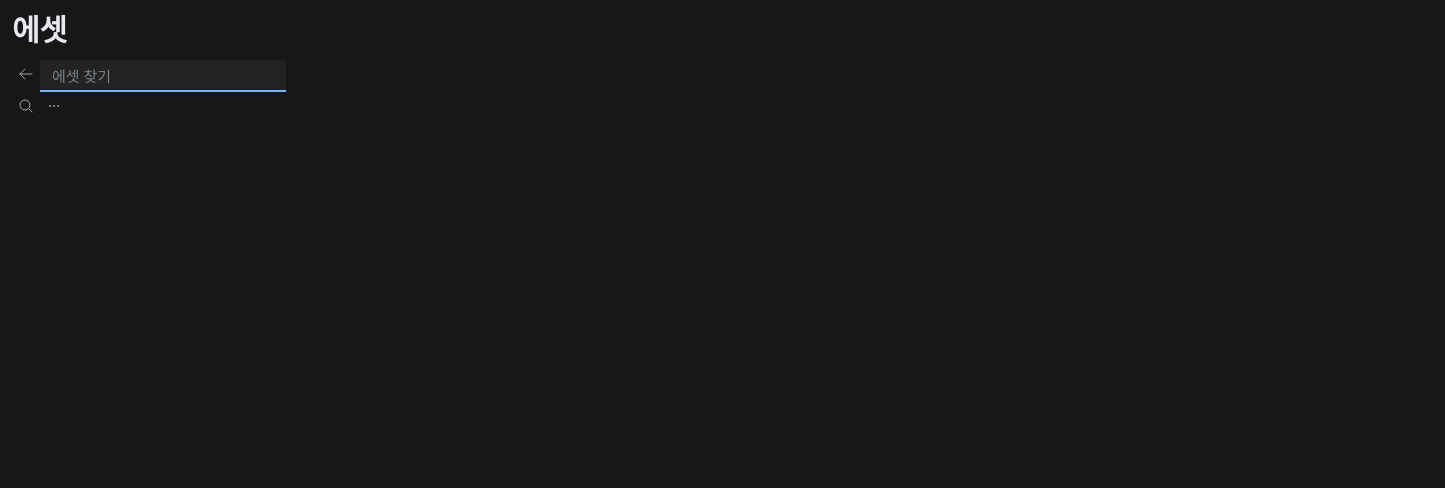
Test: shows five per group and expands only the selected group with more
Step 1. Type "서리" into the search field → {"x": 163, "y": 76}, box [40, 60, 286, 92]
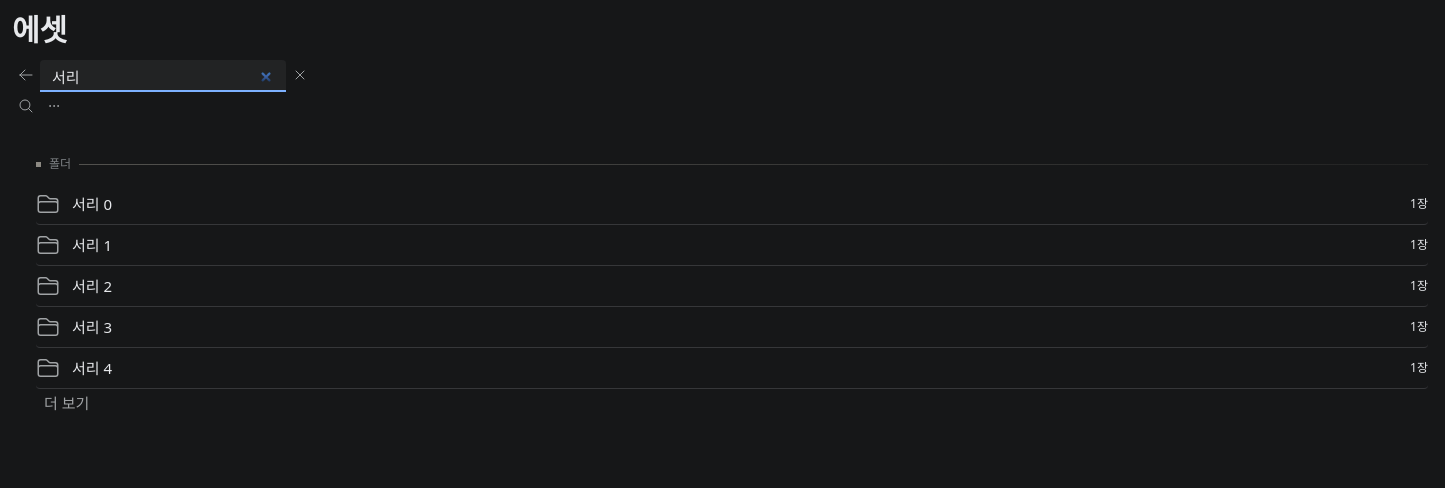
Expected: the number of buttons with class "asset-search-result" is 5, [36, 184, 1428, 225]; [36, 225, 1428, 266]; [36, 266, 1428, 307]; [36, 307, 1428, 348]; [36, 348, 1428, 389]
Step 2. Click the button with aria-label "폴더 더 보기" → {"x": 67, "y": 403}, box [36, 389, 97, 417]
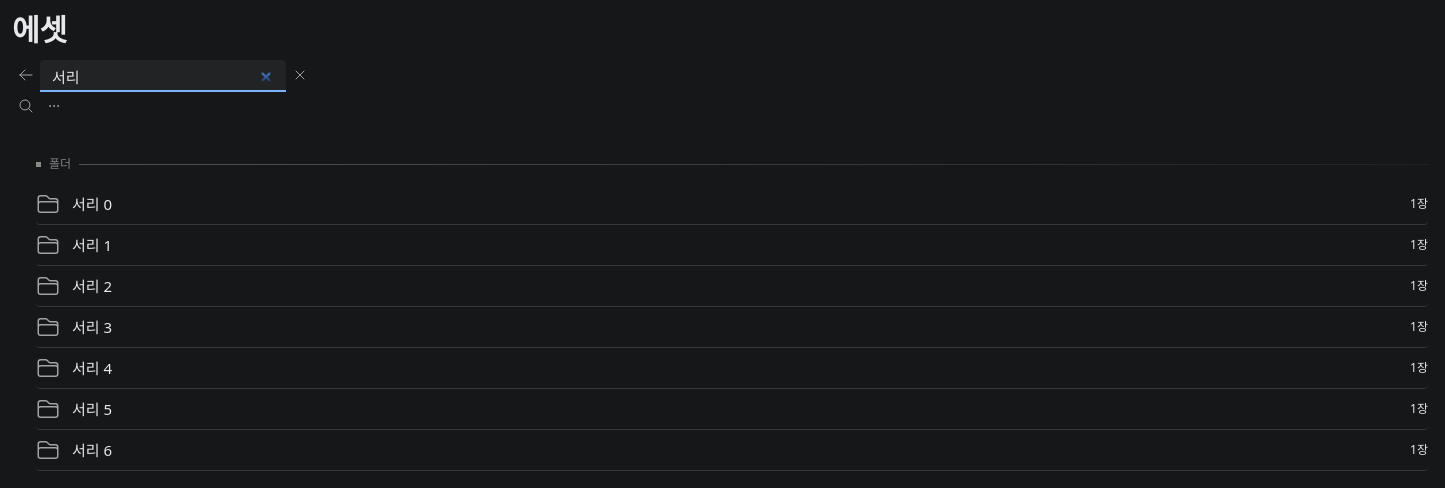
Expected: the number of buttons with class "asset-search-result" is 7
